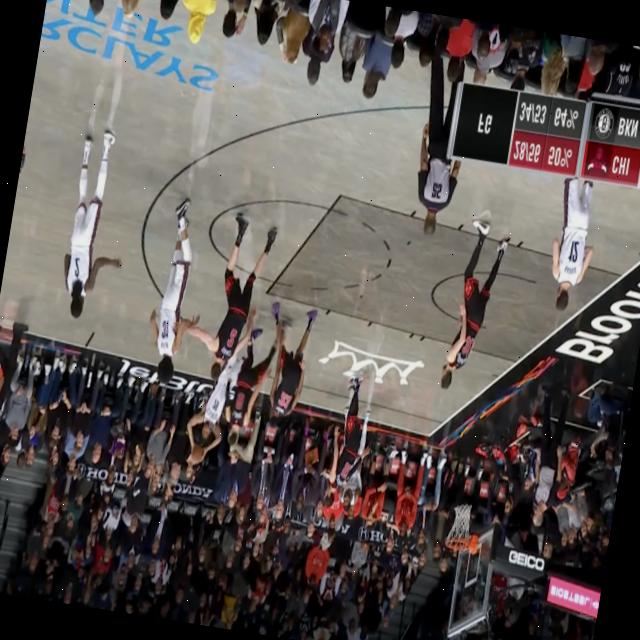no foul: (126, 210, 289, 402), (180, 304, 284, 484)
